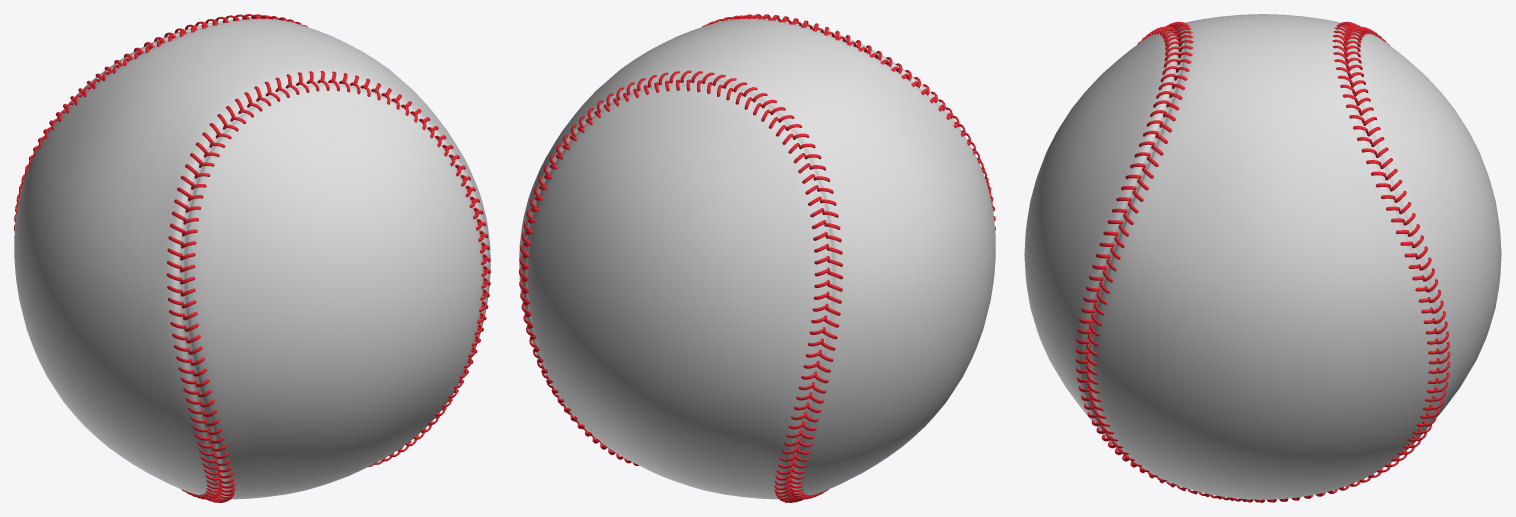
Rendered from baseball_ball.fbx.
3 views of the same model, side by side, from view 1: azimuth 30°, elevation 25°; view 2: azimuth 150°, elevation 25°; view 3: azimuth 270°, elevation 25° (orthographic).
Parts seen in each view (by area): view 1: ball, Torus; view 2: ball, Torus; view 3: ball, Torus.
Boxes of the visible parts, x1,y1,x2,y2 form: ball: [14, 18, 490, 499]; Torus: [14, 14, 490, 502]; ball: [519, 18, 995, 499]; Torus: [519, 14, 995, 502]; ball: [1024, 14, 1501, 499]; Torus: [1075, 21, 1450, 502].
Size of the model in its own units: 1.61 by 1.63 by 1.61.
